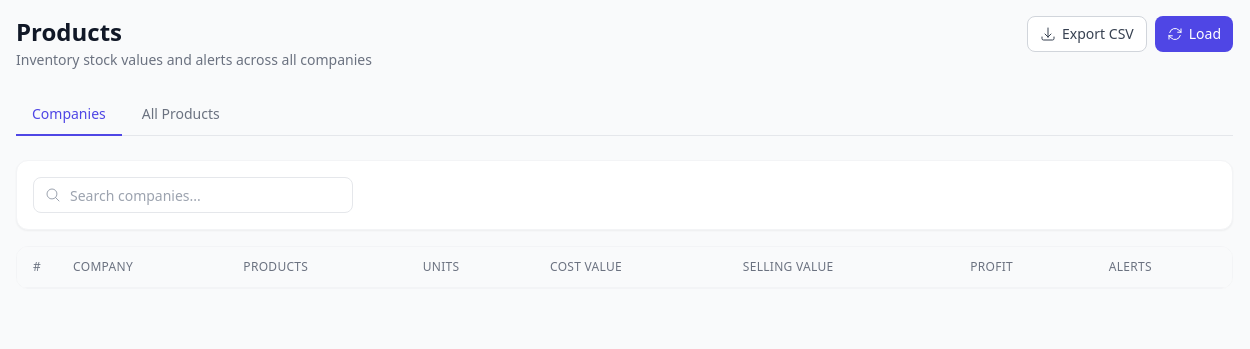
inventory analytics › loads the stock value and the alerts when asked, and lists the companies
Click the button "Load": (1194, 34) [1155,16,1233,52]
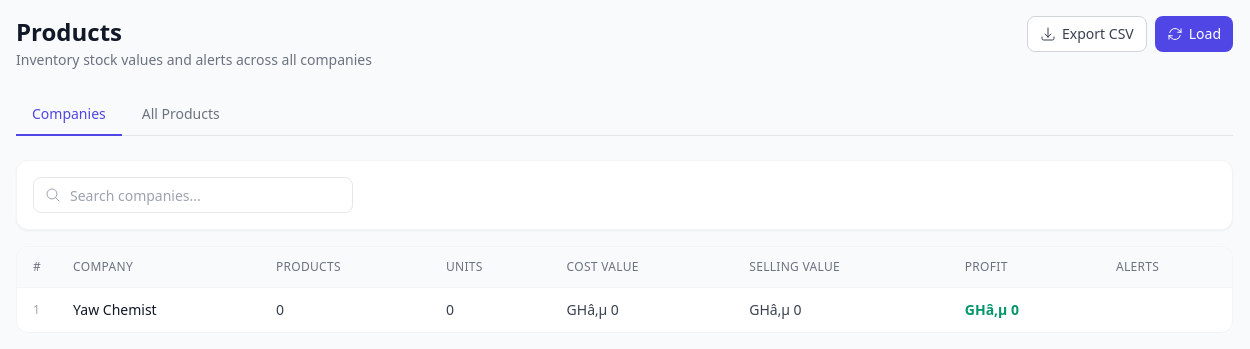
Result: the text "Yaw Chemist" is shown at [57,288,260,332]
